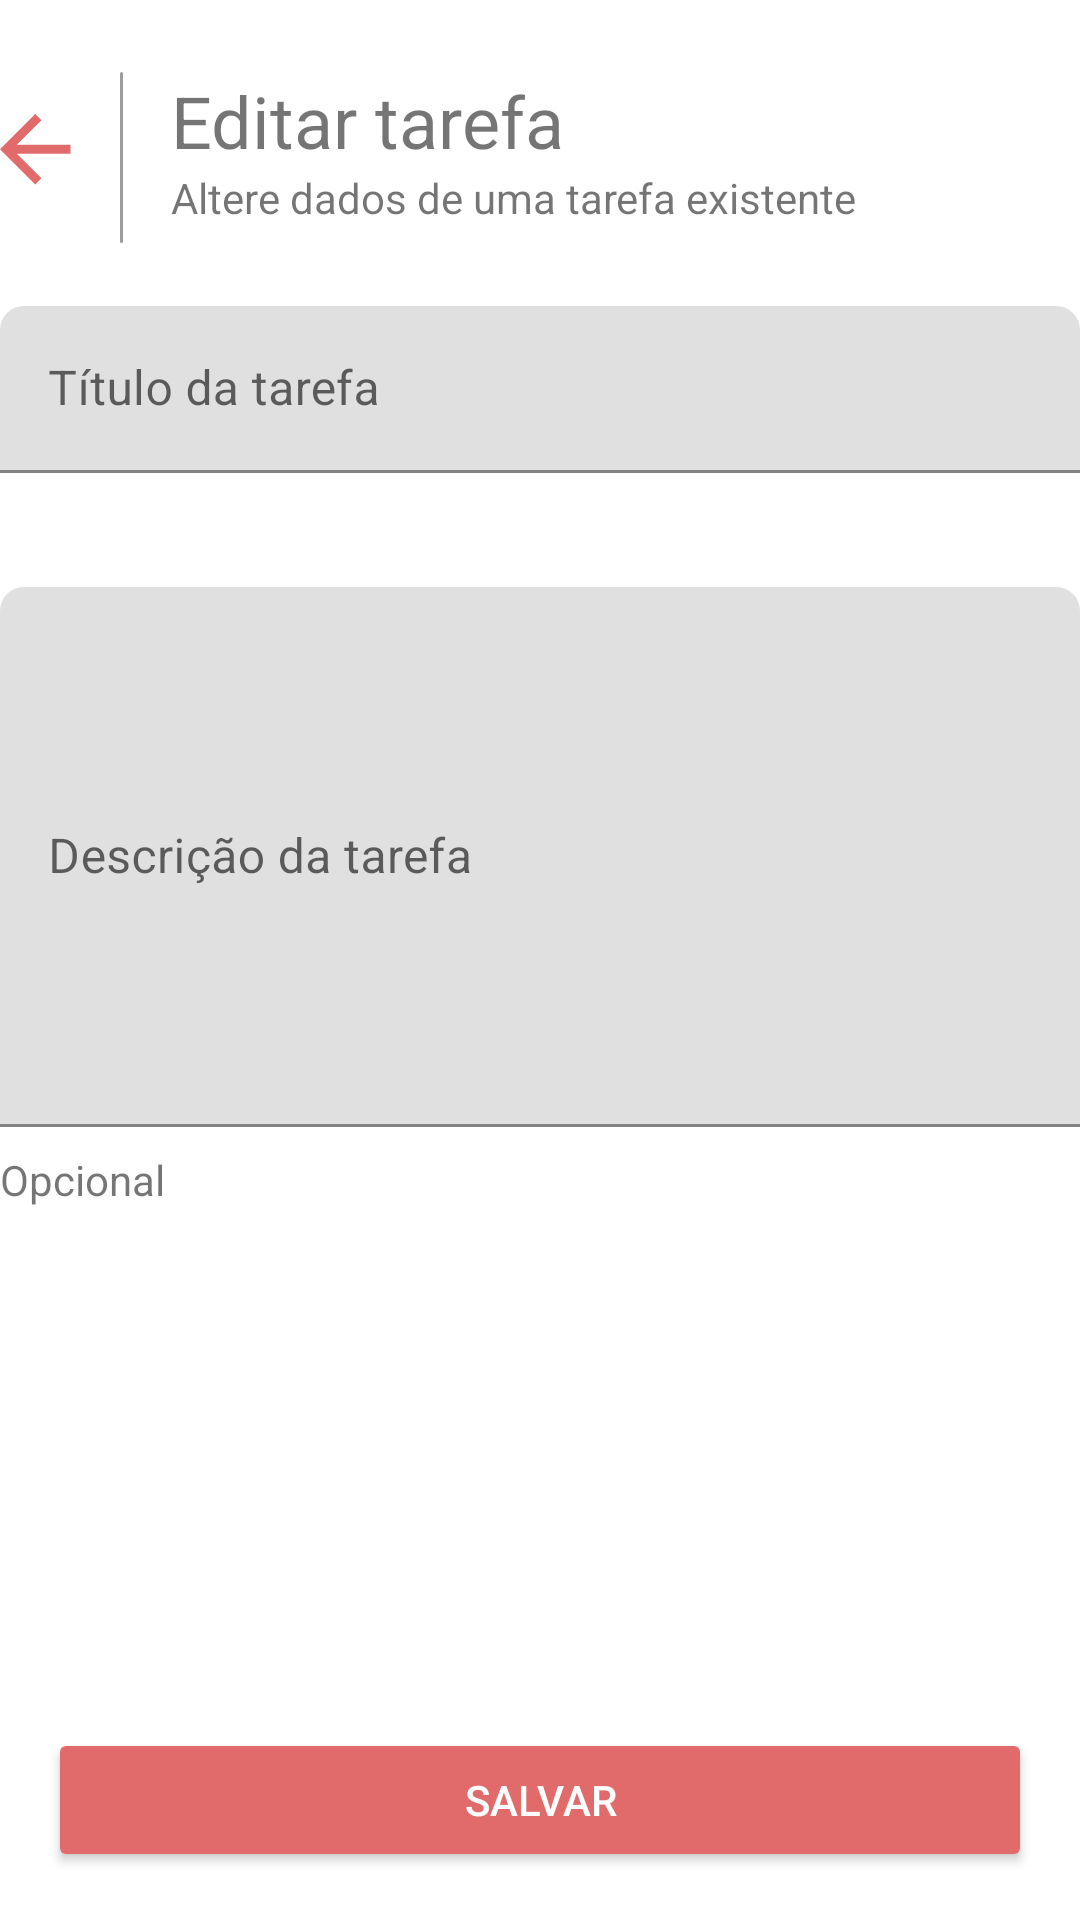

Named icons in this screenshot (1080×1920) and their centers, [x,y]:
icone retorno da pagina: [35,149]
